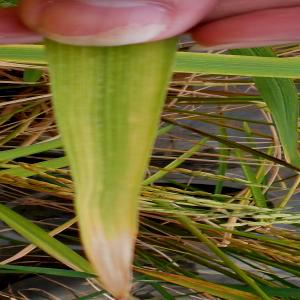2 BacterialBlight: (71, 45, 149, 236)
